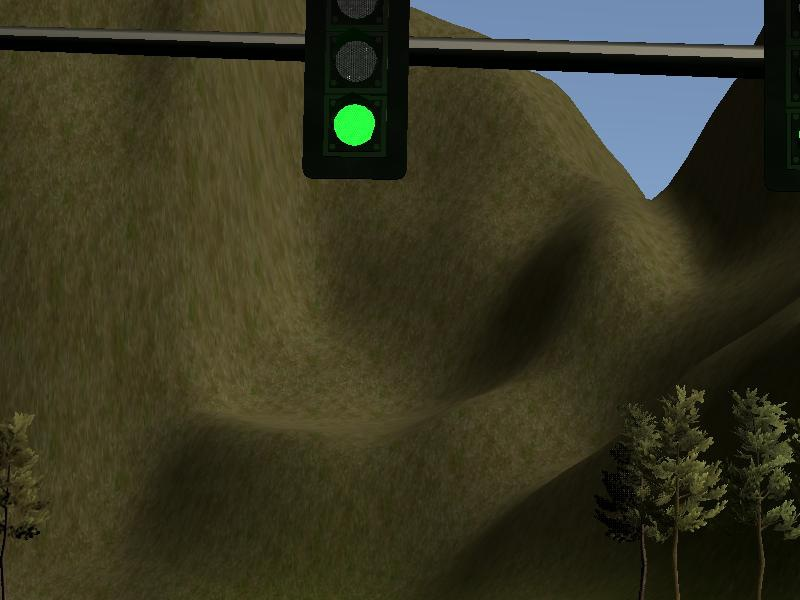green_light: (305, 1, 404, 175)
